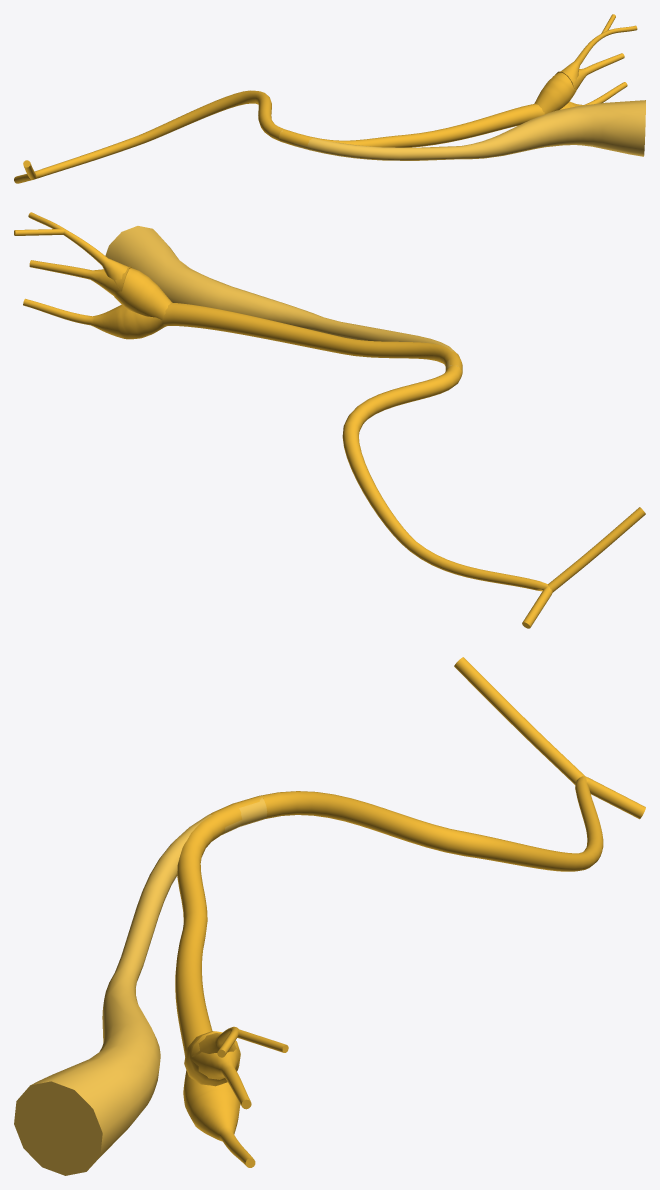
Rendered from nervoso-vestibulocochlear-nerve-viii-l.glb.
3 renders of one model, top to bottom at view 1: azimuth 30°, elevation 25°; view 2: azimuth 150°, elevation 25°; view 3: azimuth 270°, elevation 25°, orthographic. The views are drawn at different scales.
Visible parts, largest first — view 1: Cochlear nerve.l, Vestibular nerve.l, Vestibulocochlear nerve (VIII).l; view 2: Vestibular nerve.l, Cochlear nerve.l, Vestibulocochlear nerve (VIII).l; view 3: Cochlear nerve.l, Vestibular nerve.l, Vestibulocochlear nerve (VIII).l.
Part boxes in pixels (x1=…): Cochlear nerve.l: x1=279, y1=100, x2=645, y2=160; Vestibular nerve.l: x1=279, y1=14, x2=637, y2=147; Vestibulocochlear nerve (VIII).l: x1=14, y1=90, x2=284, y2=183; Vestibular nerve.l: x1=14, y1=212, x2=462, y2=373; Cochlear nerve.l: x1=105, y1=226, x2=460, y2=370; Vestibulocochlear nerve (VIII).l: x1=342, y1=365, x2=645, y2=628; Cochlear nerve.l: x1=14, y1=796, x2=267, y2=1175; Vestibular nerve.l: x1=175, y1=796, x2=288, y2=1167; Vestibulocochlear nerve (VIII).l: x1=259, y1=657, x2=645, y2=871.
Bounding box in the file's own units: 0.0334 × 0.00693 × 0.0183.
